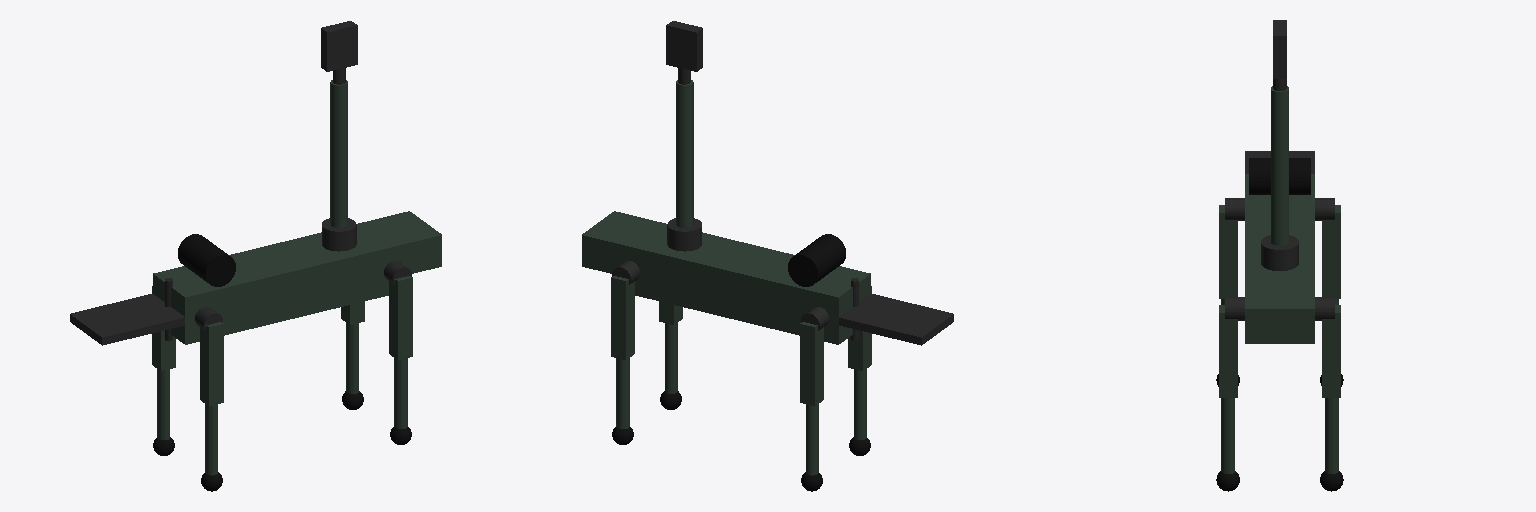
--- Render facts (derived) ---
3 views of the same robot in one strip: view 1: azimuth 30°, elevation 25°; view 2: azimuth 150°, elevation 25°; view 3: azimuth 270°, elevation 25° (orthographic).
Robot: cleanwalker_cw1 — 27 links, 26 joints (18 revolute, 8 fixed); root link base_link; default pose: every joint at zero.
Visible links, largest first — view 1: body, bag_frame, bag_roll_mount, head, FR_thigh, RR_thigh, arm_gripper, arm_forearm, arm_upper, FR_calf, arm_turret, RL_calf (+3 smaller); view 2: body, bag_frame, bag_roll_mount, head, FL_thigh, RL_thigh, arm_gripper, arm_forearm, arm_upper, FL_calf, arm_turret, RR_calf (+3 smaller); view 3: body, head, bag_roll_mount, FL_thigh, FR_thigh, RL_thigh, RR_thigh, arm_forearm, arm_upper, arm_turret, FL_calf, FR_calf (+1 smaller).
Link boxes in pixels (left/top/right/bottom): body: left=153, top=218, right=411, bottom=344; bag_frame: left=70, top=294, right=184, bottom=345; bag_roll_mount: left=178, top=234, right=235, bottom=286; head: left=380, top=211, right=441, bottom=273; FR_thigh: left=389, top=276, right=412, bottom=359; RR_thigh: left=200, top=322, right=223, bottom=405; arm_gripper: left=321, top=21, right=357, bottom=71; arm_forearm: left=330, top=80, right=347, bottom=156; arm_upper: left=330, top=153, right=347, bottom=227; FR_calf: left=394, top=358, right=407, bottom=428; arm_turret: left=322, top=218, right=356, bottom=251; RL_calf: left=157, top=369, right=169, bottom=439; body: left=612, top=218, right=870, bottom=344; bag_frame: left=839, top=294, right=953, bottom=345; bag_roll_mount: left=788, top=234, right=845, bottom=286; head: left=582, top=211, right=643, bottom=273; FL_thigh: left=611, top=276, right=634, bottom=359; RL_thigh: left=800, top=322, right=823, bottom=405; arm_gripper: left=666, top=21, right=702, bottom=71; arm_forearm: left=676, top=80, right=693, bottom=156; arm_upper: left=676, top=153, right=693, bottom=227; FL_calf: left=616, top=358, right=629, bottom=428; arm_turret: left=667, top=218, right=701, bottom=251; RR_calf: left=854, top=369, right=866, bottom=439; body: left=1245, top=174, right=1314, bottom=343; head: left=1245, top=293, right=1314, bottom=342; bag_roll_mount: left=1249, top=158, right=1310, bottom=194; FL_thigh: left=1322, top=305, right=1340, bottom=397; FR_thigh: left=1219, top=305, right=1237, bottom=397; RL_thigh: left=1322, top=205, right=1340, bottom=298; RR_thigh: left=1219, top=205, right=1237, bottom=298; arm_forearm: left=1271, top=86, right=1288, bottom=168; arm_upper: left=1271, top=167, right=1288, bottom=245; arm_turret: left=1261, top=235, right=1298, bottom=270; FL_calf: left=1325, top=398, right=1338, bottom=473; FR_calf: left=1221, top=398, right=1234, bottom=473.
Size in the robot's own frame: 0.9 by 0.27 by 1.03 metres.
Geometry: primitives only (box / cylinder / sphere), no mesh files.

URDF robot description (cleanwalker_cw1):
<?xml version="1.0" encoding="utf-8"?>
<!--
  CleanWalker CW-1 — URDF Robot Description
  Version: 1.0
  Date: 2026-02-11

  18 actuated DOF:
    - 4 legs × 3 DOF (hip_yaw, hip_pitch, knee_pitch) = 12
    - 1 arm × 5 DOF (turret_yaw, shoulder_pitch, elbow_pitch, wrist_pitch, gripper) = 5
    - 1 bag frame hinge = 1

  Total mass: ~15 kg
  Body: 0.60 × 0.15 × 0.12 m
  Leg length: ~0.40 m (0.20 upper + 0.20 lower)
  Arm reach: ~0.46 m (0.18 upper + 0.18 forearm + 0.10 gripper)

  Coordinate convention:
    X = forward, Y = left, Z = up
-->
<robot name="cleanwalker_cw1">

  <!-- ========== MATERIALS ========== -->

  <material name="olive_green">
    <color rgba="0.231 0.290 0.247 1.0"/>
  </material>
  <material name="dark_grey">
    <color rgba="0.20 0.20 0.20 1.0"/>
  </material>
  <material name="black">
    <color rgba="0.10 0.10 0.10 1.0"/>
  </material>
  <material name="green_led">
    <color rgba="0.133 0.773 0.369 1.0"/>
  </material>

  <!-- ========== BASE (dummy root link) ========== -->

  <link name="base_link"/>

  <joint name="floating_base" type="fixed">
    <parent link="base_link"/>
    <child link="body"/>
    <origin xyz="0 0 0" rpy="0 0 0"/>
  </joint>

  <!-- ========== BODY ========== -->

  <link name="body">
    <inertial>
      <origin xyz="0 0 0" rpy="0 0 0"/>
      <mass value="8.0"/>
      <inertia ixx="0.0246" ixy="0" ixz="0"
               iyy="0.2497" iyz="0"
               izz="0.2551"/>
    </inertial>
    <visual>
      <origin xyz="0 0 0" rpy="0 0 0"/>
      <geometry>
        <box size="0.60 0.15 0.12"/>
      </geometry>
      <material name="olive_green"/>
    </visual>
    <collision>
      <origin xyz="0 0 0" rpy="0 0 0"/>
      <geometry>
        <box size="0.60 0.15 0.12"/>
      </geometry>
    </collision>
  </link>

  <!-- ========== HEAD (sensor module, flush with body front) ========== -->

  <joint name="head_joint" type="fixed">
    <parent link="body"/>
    <child link="head"/>
    <origin xyz="0.34 0 0.02" rpy="0 0 0"/>
  </joint>

  <link name="head">
    <inertial>
      <origin xyz="0 0 0" rpy="0 0 0"/>
      <mass value="0.5"/>
      <inertia ixx="0.00121" ixy="0" ixz="0"
               iyy="0.000534" iyz="0"
               izz="0.00121"/>
    </inertial>
    <visual>
      <origin xyz="0 0 0" rpy="0 0 0"/>
      <geometry>
        <box size="0.08 0.15 0.08"/>
      </geometry>
      <material name="olive_green"/>
    </visual>
    <collision>
      <origin xyz="0 0 0" rpy="0 0 0"/>
      <geometry>
        <box size="0.08 0.15 0.08"/>
      </geometry>
    </collision>
  </link>

  <!-- ================================================================ -->
  <!--                     FRONT-LEFT LEG (FL)                          -->
  <!-- ================================================================ -->

  <!-- FL hip yaw: rotates leg left/right -->
  <joint name="FL_hip_yaw_joint" type="revolute">
    <parent link="body"/>
    <child link="FL_hip"/>
    <origin xyz="0.25 0.075 0" rpy="0 0 0"/>
    <axis xyz="0 0 1"/>
    <limit lower="-0.4993" upper="0.4993" effort="30.0" velocity="10.0"/>
    <dynamics damping="0.1" friction="0.01"/>
  </joint>

  <link name="FL_hip">
    <inertial>
      <origin xyz="0 0 0" rpy="0 0 0"/>
      <mass value="0.4"/>
      <inertia ixx="0.000146" ixy="0" ixz="0"
               iyy="0.000146" iyz="0"
               izz="0.000125"/>
    </inertial>
    <visual>
      <origin xyz="0 0.0175 0" rpy="1.5708 0 0"/>
      <geometry>
        <cylinder radius="0.025" length="0.05"/>
      </geometry>
      <material name="dark_grey"/>
    </visual>
    <collision>
      <origin xyz="0 0.0175 0" rpy="1.5708 0 0"/>
      <geometry>
        <cylinder radius="0.025" length="0.05"/>
      </geometry>
    </collision>
  </link>

  <!-- FL hip pitch: swings leg forward/backward -->
  <joint name="FL_hip_pitch_joint" type="revolute">
    <parent link="FL_hip"/>
    <child link="FL_thigh"/>
    <origin xyz="0 0.035 0" rpy="0 0 0"/>
    <axis xyz="0 1 0"/>
    <limit lower="-1.5708" upper="1.5708" effort="30.0" velocity="10.0"/>
    <dynamics damping="0.1" friction="0.01"/>
  </joint>

  <link name="FL_thigh">
    <inertial>
      <origin xyz="0 0 -0.10" rpy="0 0 0"/>
      <mass value="0.5"/>
      <inertia ixx="0.00174" ixy="0" ixz="0"
               iyy="0.00174" iyz="0"
               izz="0.000133"/>
    </inertial>
    <visual>
      <origin xyz="0 0 -0.10" rpy="0 0 0"/>
      <geometry>
        <box size="0.04 0.04 0.20"/>
      </geometry>
      <material name="olive_green"/>
    </visual>
    <collision>
      <origin xyz="0 0 -0.10" rpy="0 0 0"/>
      <geometry>
        <box size="0.04 0.04 0.20"/>
      </geometry>
    </collision>
  </link>

  <!-- FL knee pitch: bends the knee -->
  <joint name="FL_knee_pitch_joint" type="revolute">
    <parent link="FL_thigh"/>
    <child link="FL_calf"/>
    <origin xyz="0 0 -0.20" rpy="0 0 0"/>
    <axis xyz="0 1 0"/>
    <limit lower="-0.0995" upper="2.6005" effort="30.0" velocity="10.0"/>
    <dynamics damping="0.1" friction="0.01"/>
  </joint>

  <link name="FL_calf">
    <inertial>
      <origin xyz="0 0 -0.10" rpy="0 0 0"/>
      <mass value="0.2"/>
      <inertia ixx="0.000679" ixy="0" ixz="0"
               iyy="0.000679" iyz="0"
               izz="0.0000225"/>
    </inertial>
    <visual>
      <origin xyz="0 0 -0.10" rpy="0 0 0"/>
      <geometry>
        <cylinder radius="0.015" length="0.20"/>
      </geometry>
      <material name="olive_green"/>
    </visual>
    <collision>
      <origin xyz="0 0 -0.10" rpy="0 0 0"/>
      <geometry>
        <cylinder radius="0.015" length="0.20"/>
      </geometry>
    </collision>
  </link>

  <!-- FL foot (fixed) -->
  <joint name="FL_foot_joint" type="fixed">
    <parent link="FL_calf"/>
    <child link="FL_foot"/>
    <origin xyz="0 0 -0.20" rpy="0 0 0"/>
  </joint>

  <link name="FL_foot">
    <inertial>
      <origin xyz="0 0 0" rpy="0 0 0"/>
      <mass value="0.1"/>
      <inertia ixx="0.000025" ixy="0" ixz="0"
               iyy="0.000025" iyz="0"
               izz="0.000025"/>
    </inertial>
    <visual>
      <origin xyz="0 0 0" rpy="0 0 0"/>
      <geometry>
        <sphere radius="0.025"/>
      </geometry>
      <material name="black"/>
    </visual>
    <collision>
      <origin xyz="0 0 0" rpy="0 0 0"/>
      <geometry>
        <sphere radius="0.025"/>
      </geometry>
    </collision>
  </link>

  <!-- ================================================================ -->
  <!--                     FRONT-RIGHT LEG (FR)                         -->
  <!-- ================================================================ -->

  <joint name="FR_hip_yaw_joint" type="revolute">
    <parent link="body"/>
    <child link="FR_hip"/>
    <origin xyz="0.25 -0.075 0" rpy="0 0 0"/>
    <axis xyz="0 0 1"/>
    <limit lower="-0.4993" upper="0.4993" effort="30.0" velocity="10.0"/>
    <dynamics damping="0.1" friction="0.01"/>
  </joint>

  <link name="FR_hip">
    <inertial>
      <origin xyz="0 0 0" rpy="0 0 0"/>
      <mass value="0.4"/>
      <inertia ixx="0.000146" ixy="0" ixz="0"
               iyy="0.000146" iyz="0"
               izz="0.000125"/>
    </inertial>
    <visual>
      <origin xyz="0 -0.0175 0" rpy="1.5708 0 0"/>
      <geometry>
        <cylinder radius="0.025" length="0.05"/>
      </geometry>
      <material name="dark_grey"/>
    </visual>
    <collision>
      <origin xyz="0 -0.0175 0" rpy="1.5708 0 0"/>
      <geometry>
        <cylinder radius="0.025" length="0.05"/>
      </geometry>
    </collision>
  </link>

  <joint name="FR_hip_pitch_joint" type="revolute">
    <parent link="FR_hip"/>
    <child link="FR_thigh"/>
    <origin xyz="0 -0.035 0" rpy="0 0 0"/>
    <axis xyz="0 1 0"/>
    <limit lower="-1.5708" upper="1.5708" effort="30.0" velocity="10.0"/>
    <dynamics damping="0.1" friction="0.01"/>
  </joint>

  <link name="FR_thigh">
    <inertial>
      <origin xyz="0 0 -0.10" rpy="0 0 0"/>
      <mass value="0.5"/>
      <inertia ixx="0.00174" ixy="0" ixz="0"
               iyy="0.00174" iyz="0"
               izz="0.000133"/>
    </inertial>
    <visual>
      <origin xyz="0 0 -0.10" rpy="0 0 0"/>
      <geometry>
        <box size="0.04 0.04 0.20"/>
      </geometry>
      <material name="olive_green"/>
    </visual>
    <collision>
      <origin xyz="0 0 -0.10" rpy="0 0 0"/>
      <geometry>
        <box size="0.04 0.04 0.20"/>
      </geometry>
    </collision>
  </link>

  <joint name="FR_knee_pitch_joint" type="revolute">
    <parent link="FR_thigh"/>
    <child link="FR_calf"/>
    <origin xyz="0 0 -0.20" rpy="0 0 0"/>
    <axis xyz="0 1 0"/>
    <limit lower="-0.0995" upper="2.6005" effort="30.0" velocity="10.0"/>
    <dynamics damping="0.1" friction="0.01"/>
  </joint>

  <link name="FR_calf">
    <inertial>
      <origin xyz="0 0 -0.10" rpy="0 0 0"/>
      <mass value="0.2"/>
      <inertia ixx="0.000679" ixy="0" ixz="0"
               iyy="0.000679" iyz="0"
               izz="0.0000225"/>
    </inertial>
    <visual>
      <origin xyz="0 0 -0.10" rpy="0 0 0"/>
      <geometry>
        <cylinder radius="0.015" length="0.20"/>
      </geometry>
      <material name="olive_green"/>
    </visual>
    <collision>
      <origin xyz="0 0 -0.10" rpy="0 0 0"/>
      <geometry>
        <cylinder radius="0.015" length="0.20"/>
      </geometry>
    </collision>
  </link>

  <joint name="FR_foot_joint" type="fixed">
    <parent link="FR_calf"/>
    <child link="FR_foot"/>
    <origin xyz="0 0 -0.20" rpy="0 0 0"/>
  </joint>

  <link name="FR_foot">
    <inertial>
      <origin xyz="0 0 0" rpy="0 0 0"/>
      <mass value="0.1"/>
      <inertia ixx="0.000025" ixy="0" ixz="0"
               iyy="0.000025" iyz="0"
               izz="0.000025"/>
    </inertial>
    <visual>
      <origin xyz="0 0 0" rpy="0 0 0"/>
      <geometry>
        <sphere radius="0.025"/>
      </geometry>
      <material name="black"/>
    </visual>
    <collision>
      <origin xyz="0 0 0" rpy="0 0 0"/>
      <geometry>
        <sphere radius="0.025"/>
      </geometry>
    </collision>
  </link>

  <!-- ================================================================ -->
  <!--                      REAR-LEFT LEG (RL)                          -->
  <!-- ================================================================ -->

  <joint name="RL_hip_yaw_joint" type="revolute">
    <parent link="body"/>
    <child link="RL_hip"/>
    <origin xyz="-0.25 0.075 0" rpy="0 0 0"/>
    <axis xyz="0 0 1"/>
    <limit lower="-0.4993" upper="0.4993" effort="30.0" velocity="10.0"/>
    <dynamics damping="0.1" friction="0.01"/>
  </joint>

  <link name="RL_hip">
    <inertial>
      <origin xyz="0 0 0" rpy="0 0 0"/>
      <mass value="0.4"/>
      <inertia ixx="0.000146" ixy="0" ixz="0"
               iyy="0.000146" iyz="0"
               izz="0.000125"/>
    </inertial>
    <visual>
      <origin xyz="0 0.0175 0" rpy="1.5708 0 0"/>
      <geometry>
        <cylinder radius="0.025" length="0.05"/>
      </geometry>
      <material name="dark_grey"/>
    </visual>
    <collision>
      <origin xyz="0 0.0175 0" rpy="1.5708 0 0"/>
      <geometry>
        <cylinder radius="0.025" length="0.05"/>
      </geometry>
    </collision>
  </link>

  <joint name="RL_hip_pitch_joint" type="revolute">
    <parent link="RL_hip"/>
    <child link="RL_thigh"/>
    <origin xyz="0 0.035 0" rpy="0 0 0"/>
    <axis xyz="0 1 0"/>
    <limit lower="-1.5708" upper="1.5708" effort="30.0" velocity="10.0"/>
    <dynamics damping="0.1" friction="0.01"/>
  </joint>

  <link name="RL_thigh">
    <inertial>
      <origin xyz="0 0 -0.10" rpy="0 0 0"/>
      <mass value="0.5"/>
      <inertia ixx="0.00174" ixy="0" ixz="0"
               iyy="0.00174" iyz="0"
               izz="0.000133"/>
    </inertial>
    <visual>
      <origin xyz="0 0 -0.10" rpy="0 0 0"/>
      <geometry>
        <box size="0.04 0.04 0.20"/>
      </geometry>
      <material name="olive_green"/>
    </visual>
    <collision>
      <origin xyz="0 0 -0.10" rpy="0 0 0"/>
      <geometry>
        <box size="0.04 0.04 0.20"/>
      </geometry>
    </collision>
  </link>

  <!-- Rear knee: reversed limits (-149° to 5.7°) -->
  <joint name="RL_knee_pitch_joint" type="revolute">
    <parent link="RL_thigh"/>
    <child link="RL_calf"/>
    <origin xyz="0 0 -0.20" rpy="0 0 0"/>
    <axis xyz="0 1 0"/>
    <limit lower="-2.6005" upper="0.0995" effort="30.0" velocity="10.0"/>
    <dynamics damping="0.1" friction="0.01"/>
  </joint>

  <link name="RL_calf">
    <inertial>
      <origin xyz="0 0 -0.10" rpy="0 0 0"/>
      <mass value="0.2"/>
      <inertia ixx="0.000679" ixy="0" ixz="0"
               iyy="0.000679" iyz="0"
               izz="0.0000225"/>
    </inertial>
    <visual>
      <origin xyz="0 0 -0.10" rpy="0 0 0"/>
      <geometry>
        <cylinder radius="0.015" length="0.20"/>
      </geometry>
      <material name="olive_green"/>
    </visual>
    <collision>
      <origin xyz="0 0 -0.10" rpy="0 0 0"/>
      <geometry>
        <cylinder radius="0.015" length="0.20"/>
      </geometry>
    </collision>
  </link>

  <joint name="RL_foot_joint" type="fixed">
    <parent link="RL_calf"/>
    <child link="RL_foot"/>
    <origin xyz="0 0 -0.20" rpy="0 0 0"/>
  </joint>

  <link name="RL_foot">
    <inertial>
      <origin xyz="0 0 0" rpy="0 0 0"/>
      <mass value="0.1"/>
      <inertia ixx="0.000025" ixy="0" ixz="0"
               iyy="0.000025" iyz="0"
               izz="0.000025"/>
    </inertial>
    <visual>
      <origin xyz="0 0 0" rpy="0 0 0"/>
      <geometry>
        <sphere radius="0.025"/>
      </geometry>
      <material name="black"/>
    </visual>
    <collision>
      <origin xyz="0 0 0" rpy="0 0 0"/>
      <geometry>
        <sphere radius="0.025"/>
      </geometry>
    </collision>
  </link>

  <!-- ================================================================ -->
  <!--                     REAR-RIGHT LEG (RR)                          -->
  <!-- ================================================================ -->

  <joint name="RR_hip_yaw_joint" type="revolute">
    <parent link="body"/>
    <child link="RR_hip"/>
    <origin xyz="-0.25 -0.075 0" rpy="0 0 0"/>
    <axis xyz="0 0 1"/>
    <limit lower="-0.4993" upper="0.4993" effort="30.0" velocity="10.0"/>
    <dynamics damping="0.1" friction="0.01"/>
  </joint>

  <link name="RR_hip">
    <inertial>
      <origin xyz="0 0 0" rpy="0 0 0"/>
      <mass value="0.4"/>
      <inertia ixx="0.000146" ixy="0" ixz="0"
               iyy="0.000146" iyz="0"
               izz="0.000125"/>
    </inertial>
    <visual>
      <origin xyz="0 -0.0175 0" rpy="1.5708 0 0"/>
      <geometry>
        <cylinder radius="0.025" length="0.05"/>
      </geometry>
      <material name="dark_grey"/>
    </visual>
    <collision>
      <origin xyz="0 -0.0175 0" rpy="1.5708 0 0"/>
      <geometry>
        <cylinder radius="0.025" length="0.05"/>
      </geometry>
    </collision>
  </link>

  <joint name="RR_hip_pitch_joint" type="revolute">
    <parent link="RR_hip"/>
    <child link="RR_thigh"/>
    <origin xyz="0 -0.035 0" rpy="0 0 0"/>
    <axis xyz="0 1 0"/>
    <limit lower="-1.5708" upper="1.5708" effort="30.0" velocity="10.0"/>
    <dynamics damping="0.1" friction="0.01"/>
  </joint>

  <link name="RR_thigh">
    <inertial>
      <origin xyz="0 0 -0.10" rpy="0 0 0"/>
      <mass value="0.5"/>
      <inertia ixx="0.00174" ixy="0" ixz="0"
               iyy="0.00174" iyz="0"
               izz="0.000133"/>
    </inertial>
    <visual>
      <origin xyz="0 0 -0.10" rpy="0 0 0"/>
      <geometry>
        <box size="0.04 0.04 0.20"/>
      </geometry>
      <material name="olive_green"/>
    </visual>
    <collision>
      <origin xyz="0 0 -0.10" rpy="0 0 0"/>
      <geometry>
        <box size="0.04 0.04 0.20"/>
      </geometry>
    </collision>
  </link>

  <!-- Rear knee: reversed limits (-149° to 5.7°) -->
  <joint name="RR_knee_pitch_joint" type="revolute">
    <parent link="RR_thigh"/>
    <child link="RR_calf"/>
    <origin xyz="0 0 -0.20" rpy="0 0 0"/>
    <axis xyz="0 1 0"/>
    <limit lower="-2.6005" upper="0.0995" effort="30.0" velocity="10.0"/>
    <dynamics damping="0.1" friction="0.01"/>
  </joint>

  <link name="RR_calf">
    <inertial>
      <origin xyz="0 0 -0.10" rpy="0 0 0"/>
      <mass value="0.2"/>
      <inertia ixx="0.000679" ixy="0" ixz="0"
               iyy="0.000679" iyz="0"
               izz="0.0000225"/>
    </inertial>
    <visual>
      <origin xyz="0 0 -0.10" rpy="0 0 0"/>
      <geometry>
        <cylinder radius="0.015" length="0.20"/>
      </geometry>
      <material name="olive_green"/>
    </visual>
    <collision>
      <origin xyz="0 0 -0.10" rpy="0 0 0"/>
      <geometry>
        <cylinder radius="0.015" length="0.20"/>
      </geometry>
    </collision>
  </link>

  <joint name="RR_foot_joint" type="fixed">
    <parent link="RR_calf"/>
    <child link="RR_foot"/>
    <origin xyz="0 0 -0.20" rpy="0 0 0"/>
  </joint>

  <link name="RR_foot">
    <inertial>
      <origin xyz="0 0 0" rpy="0 0 0"/>
      <mass value="0.1"/>
      <inertia ixx="0.000025" ixy="0" ixz="0"
               iyy="0.000025" iyz="0"
               izz="0.000025"/>
    </inertial>
    <visual>
      <origin xyz="0 0 0" rpy="0 0 0"/>
      <geometry>
        <sphere radius="0.025"/>
      </geometry>
      <material name="black"/>
    </visual>
    <collision>
      <origin xyz="0 0 0" rpy="0 0 0"/>
      <geometry>
        <sphere radius="0.025"/>
      </geometry>
    </collision>
  </link>

  <!-- ================================================================ -->
  <!--                     MANIPULATOR ARM (5 DOF)                      -->
  <!-- ================================================================ -->

  <!-- Turret: cylindrical base on top of body, front-center -->
  <joint name="arm_turret_yaw_joint" type="revolute">
    <parent link="body"/>
    <child link="arm_turret"/>
    <origin xyz="0.15 0 0.06" rpy="0 0 0"/>
    <axis xyz="0 0 1"/>
    <limit lower="-3.14159" upper="3.14159" effort="15.0" velocity="5.0"/>
    <dynamics damping="0.2" friction="0.02"/>
  </joint>

  <link name="arm_turret">
    <inertial>
      <origin xyz="0 0 0.025" rpy="0 0 0"/>
      <mass value="0.3"/>
      <inertia ixx="0.000183" ixy="0" ixz="0"
               iyy="0.000183" iyz="0"
               izz="0.00024"/>
    </inertial>
    <visual>
      <origin xyz="0 0 0.025" rpy="0 0 0"/>
      <geometry>
        <cylinder radius="0.04" length="0.05"/>
      </geometry>
      <material name="dark_grey"/>
    </visual>
    <collision>
      <origin xyz="0 0 0.025" rpy="0 0 0"/>
      <geometry>
        <cylinder radius="0.04" length="0.05"/>
      </geometry>
    </collision>
  </link>

  <!-- Shoulder: pitches the upper arm (default: arm points up) -->
  <joint name="arm_shoulder_pitch_joint" type="revolute">
    <parent link="arm_turret"/>
    <child link="arm_upper"/>
    <origin xyz="0 0 0.05" rpy="0 0 0"/>
    <axis xyz="0 1 0"/>
    <limit lower="-0.7854" upper="3.14159" effort="15.0" velocity="5.0"/>
    <dynamics damping="0.2" friction="0.02"/>
  </joint>

  <link name="arm_upper">
    <inertial>
      <origin xyz="0 0 0.09" rpy="0 0 0"/>
      <mass value="0.3"/>
      <inertia ixx="0.00084" ixy="0" ixz="0"
               iyy="0.00084" iyz="0"
               izz="0.00006"/>
    </inertial>
    <visual>
      <origin xyz="0 0 0.09" rpy="0 0 0"/>
      <geometry>
        <cylinder radius="0.02" length="0.18"/>
      </geometry>
      <material name="olive_green"/>
    </visual>
    <collision>
      <origin xyz="0 0 0.09" rpy="0 0 0"/>
      <geometry>
        <cylinder radius="0.02" length="0.18"/>
      </geometry>
    </collision>
  </link>

  <!-- Elbow: bends the forearm -->
  <joint name="arm_elbow_pitch_joint" type="revolute">
    <parent link="arm_upper"/>
    <child link="arm_forearm"/>
    <origin xyz="0 0 0.18" rpy="0 0 0"/>
    <axis xyz="0 1 0"/>
    <limit lower="0" upper="2.6180" effort="15.0" velocity="5.0"/>
    <dynamics damping="0.2" friction="0.02"/>
  </joint>

  <link name="arm_forearm">
    <inertial>
      <origin xyz="0 0 0.09" rpy="0 0 0"/>
      <mass value="0.3"/>
      <inertia ixx="0.00084" ixy="0" ixz="0"
               iyy="0.00084" iyz="0"
               izz="0.00006"/>
    </inertial>
    <visual>
      <origin xyz="0 0 0.09" rpy="0 0 0"/>
      <geometry>
        <cylinder radius="0.02" length="0.18"/>
      </geometry>
      <material name="olive_green"/>
    </visual>
    <collision>
      <origin xyz="0 0 0.09" rpy="0 0 0"/>
      <geometry>
        <cylinder radius="0.02" length="0.18"/>
      </geometry>
    </collision>
  </link>

  <!-- Wrist: pitches the end-effector -->
  <joint name="arm_wrist_pitch_joint" type="revolute">
    <parent link="arm_forearm"/>
    <child link="arm_wrist"/>
    <origin xyz="0 0 0.18" rpy="0 0 0"/>
    <axis xyz="0 1 0"/>
    <limit lower="-1.5708" upper="1.5708" effort="10.0" velocity="5.0"/>
    <dynamics damping="0.1" friction="0.01"/>
  </joint>

  <link name="arm_wrist">
    <inertial>
      <origin xyz="0 0 0.025" rpy="0 0 0"/>
      <mass value="0.15"/>
      <inertia ixx="0.0000397" ixy="0" ixz="0"
               iyy="0.0000397" iyz="0"
               izz="0.0000169"/>
    </inertial>
    <visual>
      <origin xyz="0 0 0.025" rpy="0 0 0"/>
      <geometry>
        <cylinder radius="0.015" length="0.05"/>
      </geometry>
      <material name="dark_grey"/>
    </visual>
    <collision>
      <origin xyz="0 0 0.025" rpy="0 0 0"/>
      <geometry>
        <cylinder radius="0.015" length="0.05"/>
      </geometry>
    </collision>
  </link>

  <!-- Gripper: single-DOF jaw (simplified) -->
  <joint name="arm_gripper_joint" type="revolute">
    <parent link="arm_wrist"/>
    <child link="arm_gripper"/>
    <origin xyz="0 0 0.05" rpy="0 0 0"/>
    <axis xyz="0 1 0"/>
    <limit lower="0" upper="1.0472" effort="5.0" velocity="2.0"/>
    <dynamics damping="0.05" friction="0.005"/>
  </joint>

  <link name="arm_gripper">
    <inertial>
      <origin xyz="0 0 0.04" rpy="0 0 0"/>
      <mass value="0.15"/>
      <inertia ixx="0.0000425" ixy="0" ixz="0"
               iyy="0.0000425" iyz="0"
               izz="0.0000031"/>
    </inertial>
    <visual>
      <origin xyz="0 0 0.04" rpy="0 0 0"/>
      <geometry>
        <box size="0.08 0.03 0.10"/>
      </geometry>
      <material name="dark_grey"/>
    </visual>
    <collision>
      <origin xyz="0 0 0.04" rpy="0 0 0"/>
      <geometry>
        <box size="0.08 0.03 0.10"/>
      </geometry>
    </collision>
  </link>

  <!-- ================================================================ -->
  <!--                     BAG SYSTEM                                   -->
  <!-- ================================================================ -->

  <!-- Bag roll mount: fixed dispenser cylinder on top-rear of body -->
  <joint name="bag_roll_mount_joint" type="fixed">
    <parent link="body"/>
    <child link="bag_roll_mount"/>
    <origin xyz="-0.20 0 0.06" rpy="0 0 0"/>
  </joint>

  <link name="bag_roll_mount">
    <inertial>
      <origin xyz="0 0 0.04" rpy="0 0 0"/>
      <mass value="0.2"/>
      <inertia ixx="0.000362" ixy="0" ixz="0"
               iyy="0.000362" iyz="0"
               izz="0.00016"/>
    </inertial>
    <visual>
      <origin xyz="0 0 0.04" rpy="1.5708 0 0"/>
      <geometry>
        <cylinder radius="0.04" length="0.13"/>
      </geometry>
      <material name="black"/>
    </visual>
    <collision>
      <origin xyz="0 0 0.04" rpy="1.5708 0 0"/>
      <geometry>
        <cylinder radius="0.04" length="0.13"/>
      </geometry>
    </collision>
  </link>

  <!-- Frame hinge: revolute at rear edge of body, opens to 135° -->
  <joint name="bag_frame_hinge_joint" type="revolute">
    <parent link="body"/>
    <child link="bag_frame_hinge"/>
    <origin xyz="-0.30 0 0" rpy="0 0 0"/>
    <axis xyz="0 1 0"/>
    <limit lower="0" upper="2.3562" effort="10.0" velocity="2.0"/>
    <dynamics damping="0.3" friction="0.05"/>
  </joint>

  <link name="bag_frame_hinge">
    <inertial>
      <origin xyz="0 0 0" rpy="0 0 0"/>
      <mass value="0.1"/>
      <inertia ixx="0.00001" ixy="0" ixz="0"
               iyy="0.00001" iyz="0"
               izz="0.00001"/>
    </inertial>
    <visual>
      <origin xyz="0 0 0" rpy="0 0 0"/>
      <geometry>
        <cylinder radius="0.01" length="0.15"/>
      </geometry>
      <material name="dark_grey"/>
    </visual>
    <collision>
      <origin xyz="0 0 0" rpy="0 0 0"/>
      <geometry>
        <cylinder radius="0.01" length="0.15"/>
      </geometry>
    </collision>
  </link>

  <!-- Frame: rectangular tubing frame hanging from hinge -->
  <joint name="bag_frame_joint" type="fixed">
    <parent link="bag_frame_hinge"/>
    <child link="bag_frame"/>
    <origin xyz="-0.11 0 0" rpy="0 0 0"/>
  </joint>

  <link name="bag_frame">
    <inertial>
      <origin xyz="0 0 0" rpy="0 0 0"/>
      <mass value="0.2"/>
      <inertia ixx="0.000815" ixy="0" ixz="0"
               iyy="0.000383" iyz="0"
               izz="0.001184"/>
    </inertial>
    <visual>
      <origin xyz="0 0 0" rpy="0 0 0"/>
      <geometry>
        <box size="0.22 0.15 0.02"/>
      </geometry>
      <material name="dark_grey"/>
    </visual>
    <collision>
      <origin xyz="0 0 0" rpy="0 0 0"/>
      <geometry>
        <box size="0.22 0.15 0.02"/>
      </geometry>
    </collision>
  </link>

</robot>
